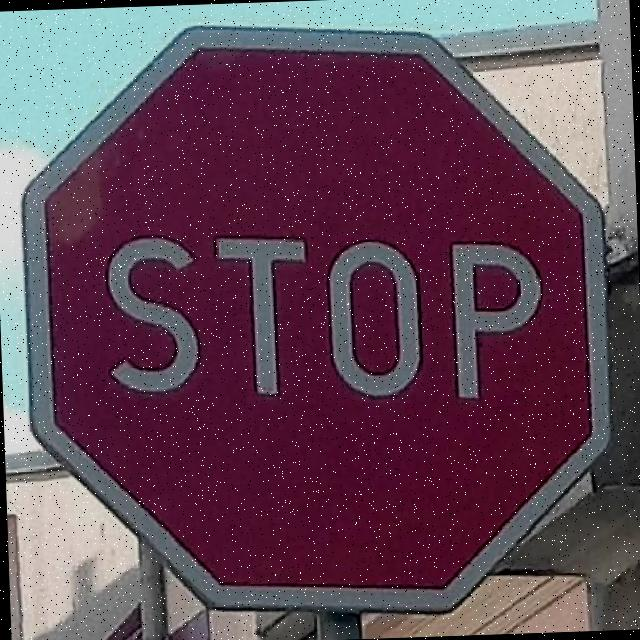Stop: (15, 9, 619, 628)
